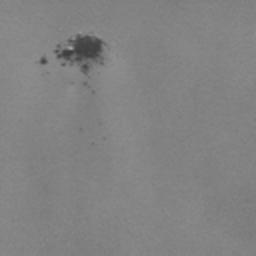Iron sheet ash: (52, 32, 104, 74), (40, 56, 47, 65)
